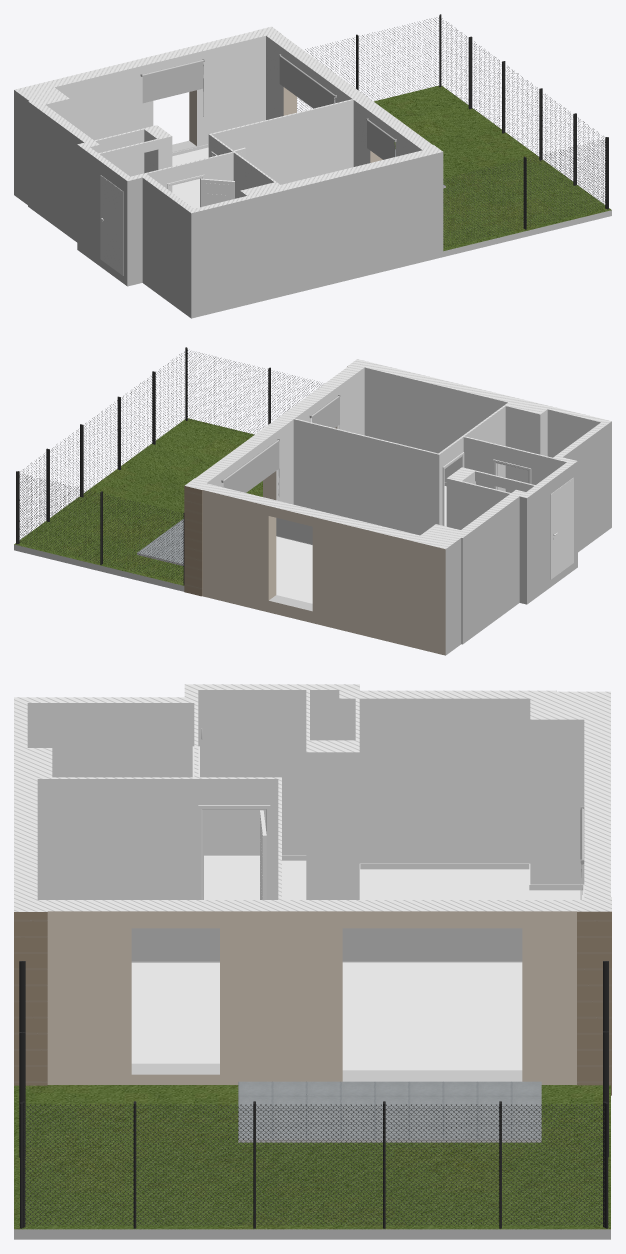
The model's file is t2_a001_04.7_Test_estor.gltf.
The picture shows the model from 3 angles, top to bottom: view 1: azimuth 30°, elevation 25°; view 2: azimuth 150°, elevation 25°; view 3: azimuth 270°, elevation 25°; orthographic projection. The views are drawn at different scales.
Visible parts, largest first — view 1: masonry_01, ground_garden_01, exc_fence_01, section_face_01, door_01, furniture_curtain, furniture_curtain001, ground_living_01, interior_door_panel_02, furniture_curtain002; view 2: masonry_01, ground_garden_01, exc_fence_01, section_face_01, ground_living_01, door_01, furniture_curtain001, ground_terrace_01, furniture_curtain, furniture_curtain002, interior_door_frame_01; view 3: masonry_01, ground_garden_01, exc_fence_01, section_face_01, ground_living_01, ground_terrace_01, ground_bed_01, door_01, furniture_curtain001, ground_kitchen_01, ground_hall_01, furniture_curtain002 (+2 smaller).
Boxes of the visible parts, x1,y1,x2,y2 form: masonry_01: [14, 36, 611, 318]; ground_garden_01: [374, 85, 611, 251]; exc_fence_01: [297, 14, 608, 246]; section_face_01: [14, 26, 442, 213]; door_01: [100, 175, 123, 275]; furniture_curtain: [140, 59, 204, 116]; furniture_curtain001: [279, 54, 336, 108]; ground_living_01: [172, 147, 208, 208]; interior_door_panel_02: [200, 178, 234, 206]; furniture_curtain002: [366, 118, 396, 159]; masonry_01: [14, 366, 611, 655]; ground_garden_01: [14, 418, 262, 585]; exc_fence_01: [16, 347, 321, 584]; section_face_01: [185, 359, 611, 549]; ground_living_01: [276, 536, 312, 603]; door_01: [550, 477, 573, 579]; furniture_curtain001: [221, 438, 279, 496]; ground_terrace_01: [137, 519, 183, 564]; furniture_curtain: [276, 518, 312, 544]; furniture_curtain002: [309, 394, 340, 428]; interior_door_frame_01: [442, 452, 531, 525]; masonry_01: [14, 690, 611, 1239]; ground_garden_01: [14, 1085, 610, 1229]; exc_fence_01: [19, 961, 608, 1228]; section_face_01: [14, 684, 611, 911]; ground_living_01: [342, 962, 522, 1070]; ground_terrace_01: [238, 1081, 541, 1139]; ground_bed_01: [131, 962, 219, 1063]; door_01: [199, 714, 277, 856]; furniture_curtain001: [342, 928, 522, 962]; ground_kitchen_01: [360, 869, 583, 899]; ground_hall_01: [204, 856, 306, 899]; furniture_curtain002: [131, 928, 219, 962].
Size of the model in its own units: 11.75 by 2.7 by 7.96.
Materials: 35 (28 with a texture image).
